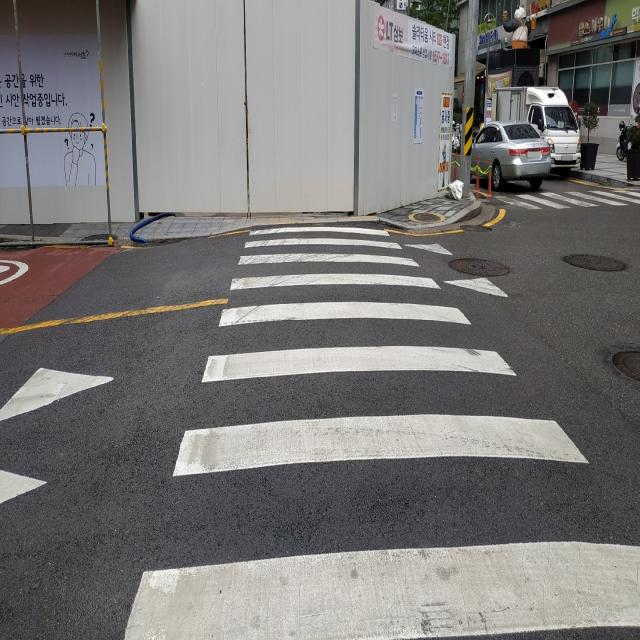횡단보도: (124, 225, 640, 640), (509, 187, 640, 220)
